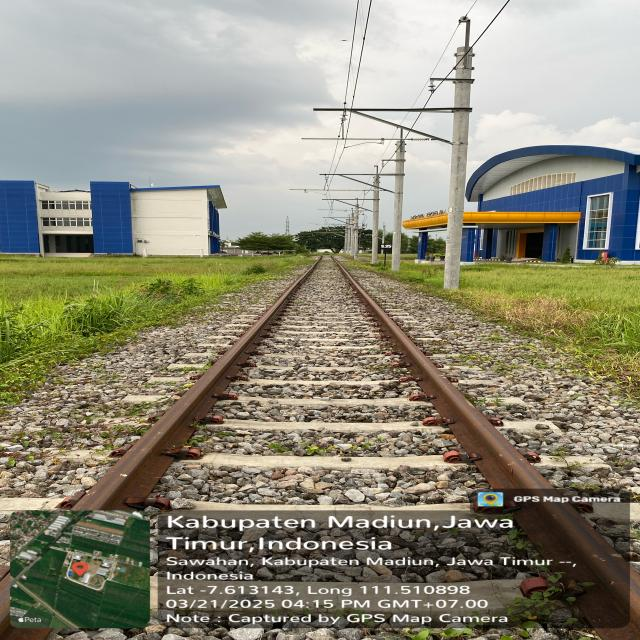rail-detection: (72, 255, 325, 510), (74, 266, 315, 510), (329, 255, 550, 490), (339, 266, 551, 497), (516, 498, 632, 627), (535, 508, 635, 616)
